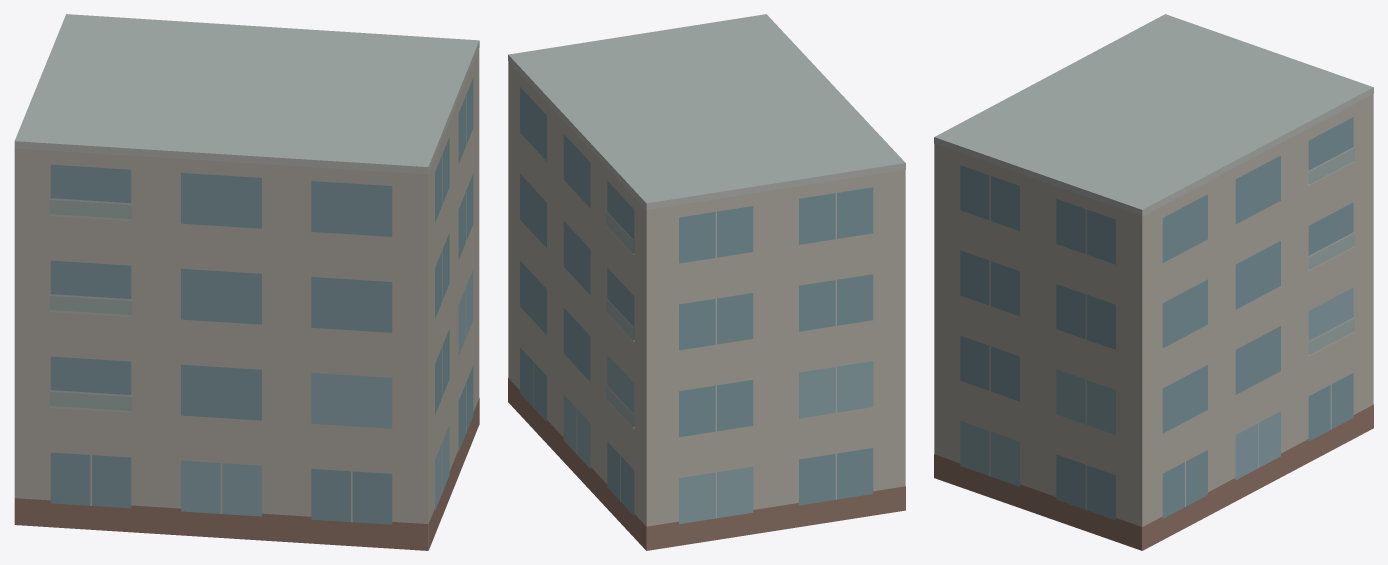
File: survey-upis-32714754.glb
3 renders of one model, left to right at view 1: azimuth 30°, elevation 25°; view 2: azimuth 150°, elevation 25°; view 3: azimuth 270°, elevation 25°, orthographic. The views are drawn at different scales.
Visible parts, largest first — view 1: survey-upis-32714754.tmp; view 2: survey-upis-32714754.tmp; view 3: survey-upis-32714754.tmp.
Part boxes in pixels (x1=…): survey-upis-32714754.tmp: x1=14, y1=14, x2=479, y2=550; survey-upis-32714754.tmp: x1=508, y1=14, x2=905, y2=550; survey-upis-32714754.tmp: x1=934, y1=14, x2=1373, y2=550.
Size of the model in its own units: 15.97 by 12.95 by 15.14.
